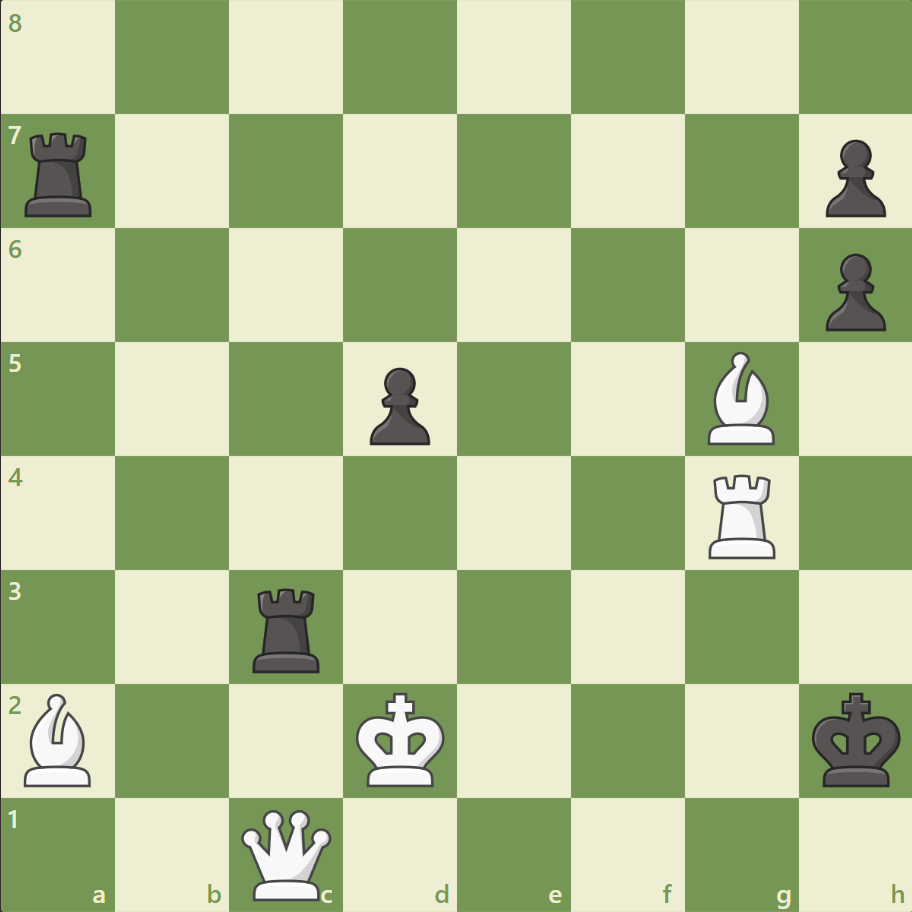B: (17, 687, 101, 790), (698, 347, 782, 449)
K: (351, 685, 451, 793)
Q: (237, 804, 336, 903)
R: (700, 466, 783, 563)
k: (806, 685, 906, 793)
p: (815, 132, 889, 223), (815, 246, 889, 337), (361, 359, 435, 450)
r: (19, 125, 102, 222), (246, 579, 329, 676)
